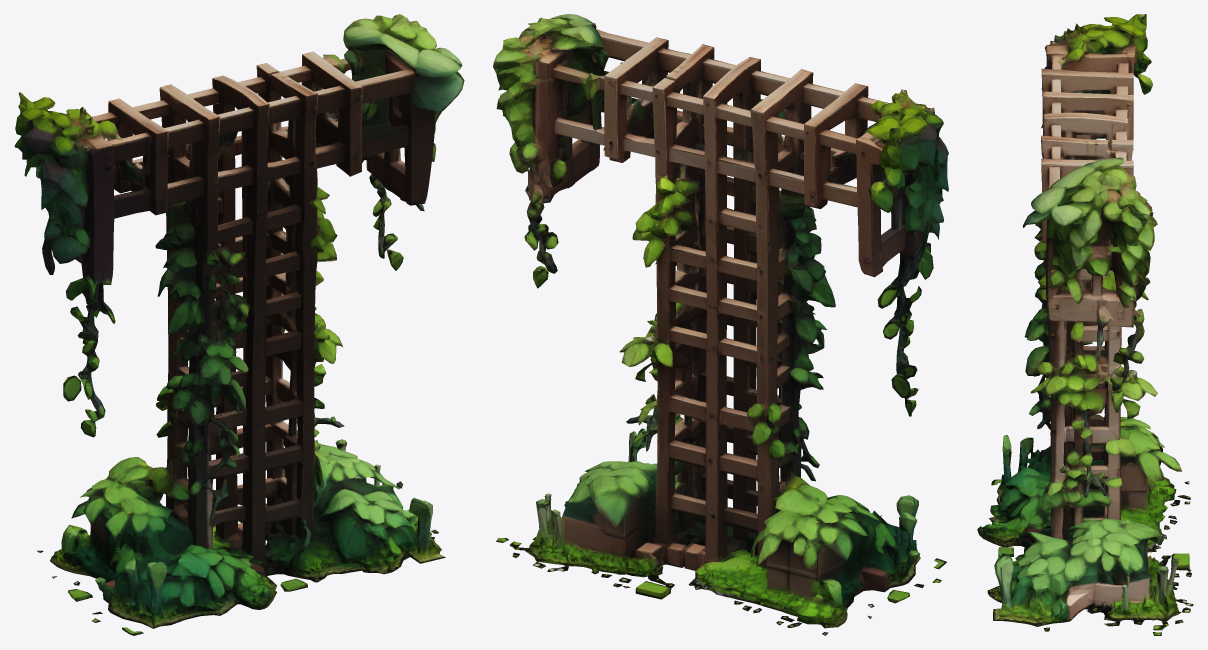
The model's file is sample.glb.
The picture shows the model from 3 angles, left to right: view 1: azimuth 30°, elevation 25°; view 2: azimuth 150°, elevation 25°; view 3: azimuth 270°, elevation 25°; orthographic projection. The views are drawn at different scales.
Visible parts, largest first — view 1: world; view 2: world; view 3: world.
Part boxes in pixels (box(x1,y1,x2,y2)): world: box(14, 14, 464, 635); world: box(493, 14, 948, 635); world: box(977, 14, 1193, 635).
Size of the model in its own units: 0.8778 by 0.9946 by 0.4264.
Materials: 1 (1 with a texture image).
